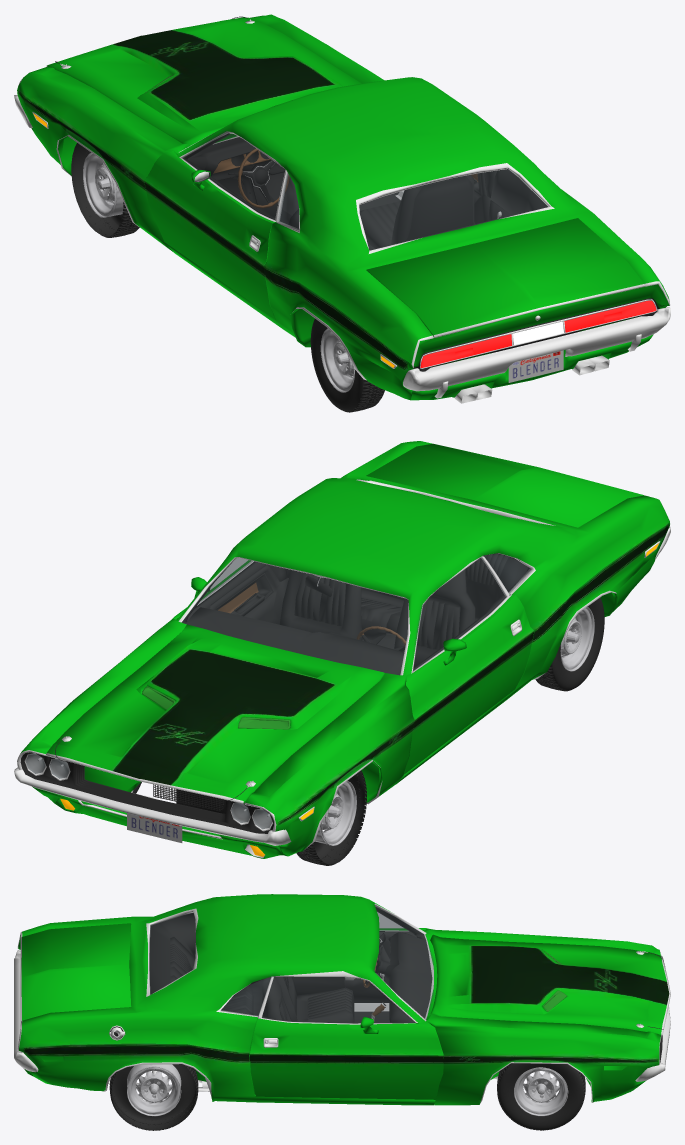
The model's file is macchina.glb.
3 renders of one model, top to bottom at view 1: azimuth 30°, elevation 25°; view 2: azimuth 150°, elevation 25°; view 3: azimuth 270°, elevation 25°, orthographic. The views are drawn at different scales.
Visible parts, largest first — view 1: Macchina, Portiera_S, Ruota_AS, Ruota_PS, Portiera_D; view 2: Macchina, Portiera_S, Portiera_D, Ruota_AS, Ruota_PS; view 3: Macchina, Portiera_D, Ruota_AD, Ruota_PD, Portiera_S.
Boxes of the visible parts, x1,y1,x2,y2 form: Macchina: (14, 14, 670, 412); Portiera_S: (144, 131, 285, 318); Ruota_AS: (71, 143, 139, 236); Ruota_PS: (310, 318, 384, 411); Portiera_D: (471, 170, 496, 223); Macchina: (14, 441, 670, 865); Portiera_S: (403, 557, 534, 774); Portiera_D: (160, 558, 287, 628); Ruota_AS: (302, 771, 364, 864); Ruota_PS: (538, 597, 604, 690); Macchina: (14, 894, 670, 1130); Portiera_D: (249, 977, 443, 1099); Ruota_AD: (498, 1063, 583, 1129); Ruota_PD: (111, 1064, 196, 1130); Portiera_S: (292, 912, 426, 1002).
Bounding box in the file's own units: 1.93 × 1.31 × 4.9.
13 materials, 2 textured.
